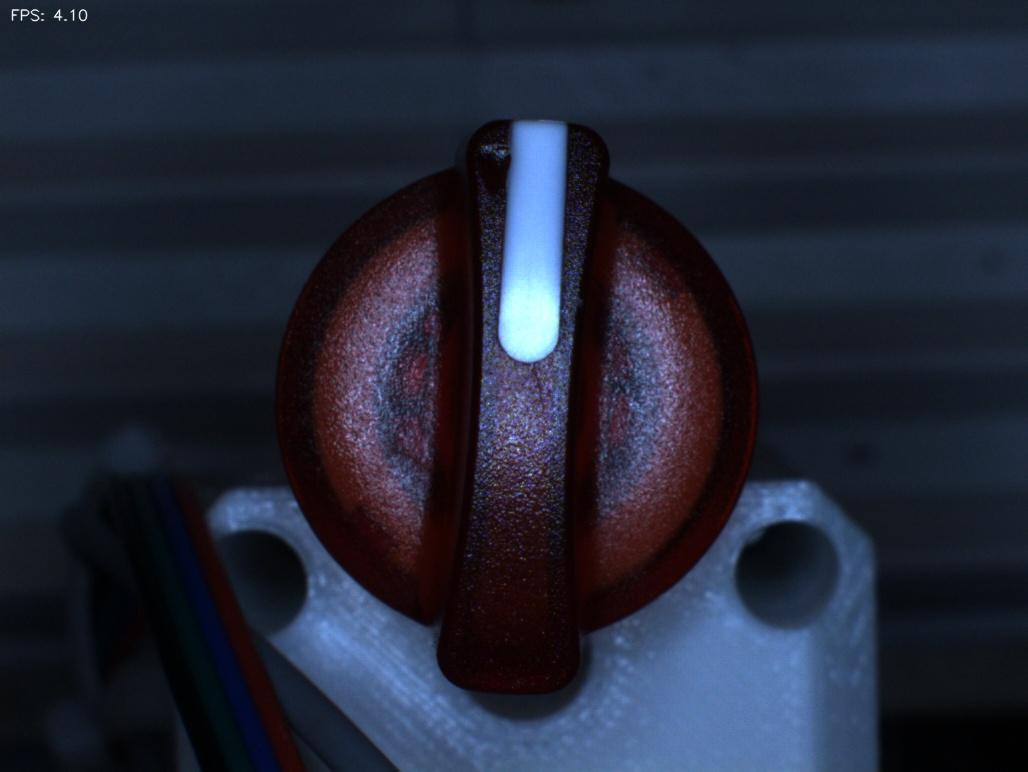Choc: (451, 122, 533, 226)
